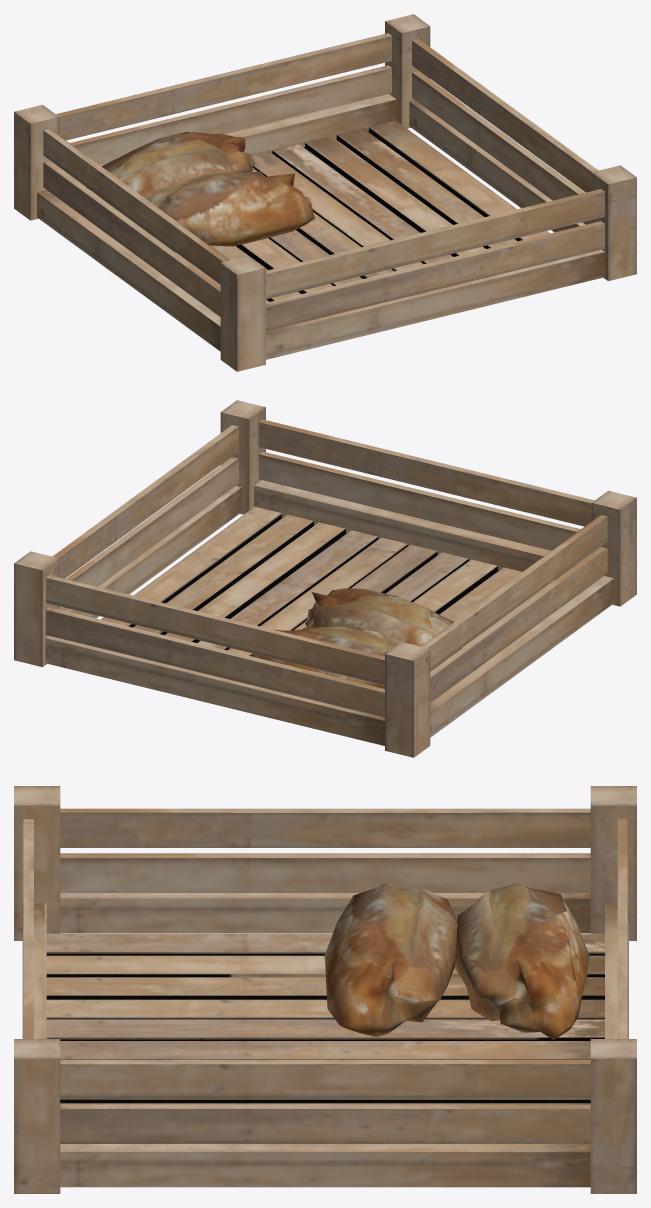
Rendered from MS_BreadStack2.fbx.
3 renders of one model, top to bottom at view 1: azimuth 30°, elevation 25°; view 2: azimuth 150°, elevation 25°; view 3: azimuth 270°, elevation 25°, orthographic. The views are drawn at different scales.
Visible parts, largest first — view 1: Cube.007; view 2: Cube.007; view 3: Cube.007.
Boxes of the visible parts, x1,y1,x2,y2 form: Cube.007: (14,14,636,371); Cube.007: (14,400,636,757); Cube.007: (14,786,636,1193).
Size of the model in its own units: 903 by 209 by 872.
1 material, 1 textured.
